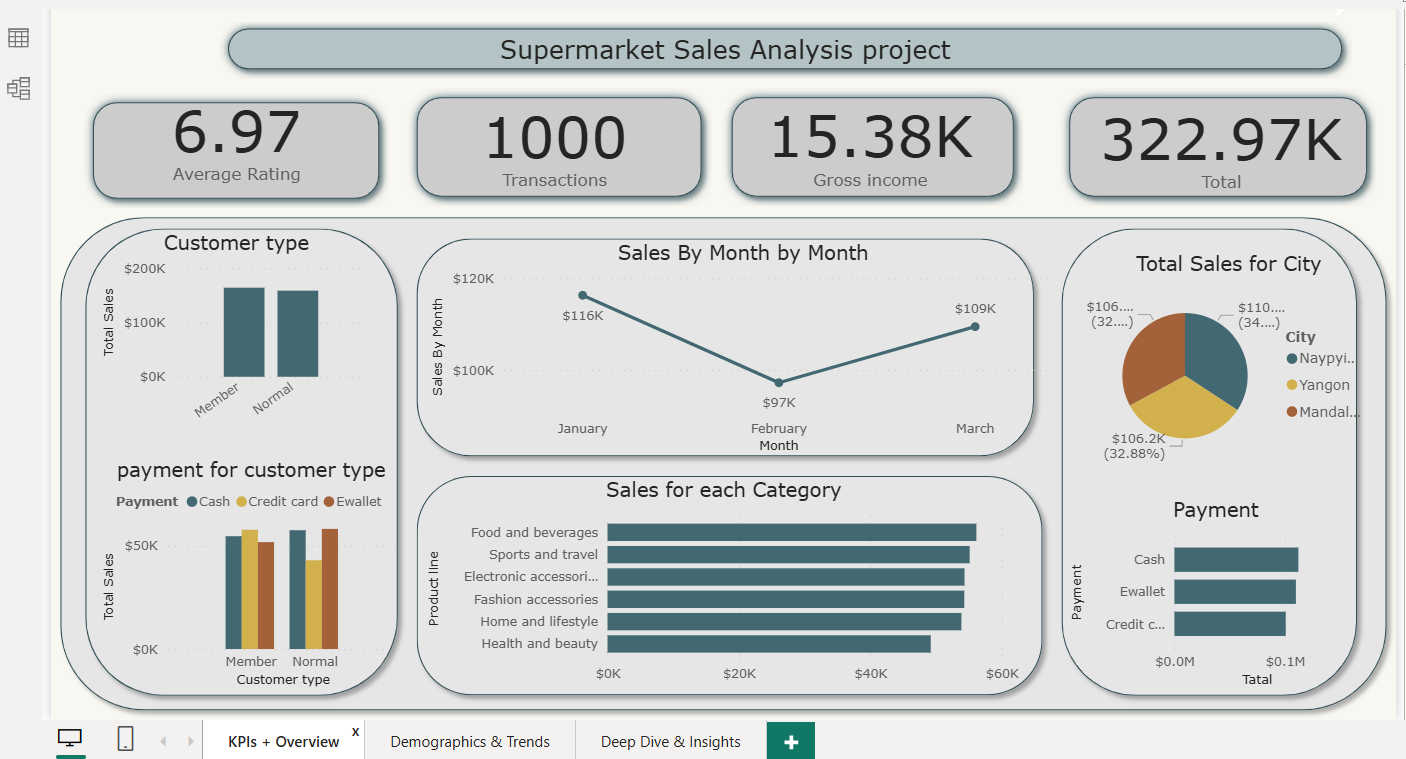

Layout of this report page (visuals, bound fields, positions):
{"tool":"powerbi","page":{"name":"KPIs + Overview","canvas":[1280,720],"ordinal":0},"visuals":[{"type":"shape","box":[0,232.2,1280.6,487.5],"z":500},{"type":"shape","box":[339.5,478,613.8,226.8],"z":1000},{"type":"shape","box":[339.5,252.6,605.6,225.4],"z":2000},{"type":"shape","box":[953,242.3,299.2,462.9],"z":3000},{"type":"shape","box":[24.4,242.3,315.4,462.9],"z":4000},{"type":"shape","box":[159.7,52.8,1078.9,56.9],"z":5000},{"type":"shape","box":[639.6,118.1,286.5,112.7],"z":6000},{"type":"shape","box":[339.5,118.1,289.2,112.7],"z":7000},{"type":"shape","box":[31.2,122.2,290.6,110],"z":8000},{"type":"shape","box":[960.1,118.1,301.5,112.7],"z":9000},{"type":"card","fields":{"Values":["supermarket_sales - Sheet1.Sum_Total"]},"box":[979.1,119.5,270.2,107.3],"z":10000},{"type":"card","fields":{"Values":["supermarket_sales - Sheet1.Gross_income"]},"box":[639.6,110,282.5,122.2],"z":11000},{"type":"card","fields":{"Values":["supermarket_sales - Sheet1.Transactions"]},"box":[339.5,122.2,281.1,96.4],"z":12000},{"type":"card","fields":{"Values":["supermarket_sales - Sheet1.Average_Rating"]},"box":[53,110,247.1,111.4],"z":13000},{"type":"pieChart","title":" Total Sales for  City","fields":{"Y":["Sum(supermarket_sales - Sheet1.Total)"],"Category":["supermarket_sales - Sheet1.City"]},"box":[979.1,274.3,283.8,214.6],"z":14000},{"type":"clusteredColumnChart","title":"payment for customer type","fields":{"Category":["supermarket_sales - Sheet1.Customer type"],"Y":["Sum(supermarket_sales - Sheet1.Total)"],"Series":["supermarket_sales - Sheet1.Payment"]},"box":[44.8,469.9,290.6,222.7],"z":15000},{"type":"clusteredBarChart","title":"Sales for each  Category","fields":{"Category":["supermarket_sales - Sheet1.Product line"],"Y":["Sum(supermarket_sales - Sheet1.Total)"]},"box":[354.4,488.9,571.7,203.7],"z":16000},{"type":"lineChart","fields":{"Category":["supermarket_sales - Sheet1.Date.Variation.Date Hierarchy.Month"],"Y":["Sum(supermarket_sales - Sheet1.Total)"]},"box":[358.5,263.4,601.6,207.8],"z":17000},{"type":"columnChart","title":" Customer type","fields":{"Category":["supermarket_sales - Sheet1.Customer type"],"Y":["Sum(supermarket_sales - Sheet1.Total)"]},"box":[44.7,253.1,262.6,201.7],"z":18000},{"type":"barChart","title":" Payment","fields":{"Category":["supermarket_sales - Sheet1.Payment"],"Y":["Sum(supermarket_sales - Sheet1.Total)"]},"box":[966.9,507.9,285.2,184.7],"z":19000},{"type":"textbox","box":[422.3,62.3,731,63.6],"z":20000},{"type":"actionButton","box":[1203.8,16.2,46.2,40],"z":21000}]}

Visuals, with their boxes on the page's 1280x720 design canvas (x1, y1, x2, y2). These are canvas units, not pixel positions in the 1406x759 screenshot, which may show the page scaled, cropped or inside an application window:
shape: detection(0, 232, 1281, 720)
shape: detection(340, 478, 953, 705)
shape: detection(340, 253, 945, 478)
shape: detection(953, 242, 1252, 705)
shape: detection(24, 242, 340, 705)
shape: detection(160, 53, 1239, 110)
shape: detection(640, 118, 926, 231)
shape: detection(340, 118, 629, 231)
shape: detection(31, 122, 322, 232)
shape: detection(960, 118, 1262, 231)
card - supermarket_sales - Sheet1.Sum_Total: detection(979, 120, 1249, 227)
card - supermarket_sales - Sheet1.Gross_income: detection(640, 110, 922, 232)
card - supermarket_sales - Sheet1.Transactions: detection(340, 122, 621, 219)
card - supermarket_sales - Sheet1.Average_Rating: detection(53, 110, 300, 221)
" Total Sales for  City" pieChart: detection(979, 274, 1263, 489)
"payment for customer type" clusteredColumnChart: detection(45, 470, 335, 693)
"Sales for each  Category" clusteredBarChart: detection(354, 489, 926, 693)
lineChart - supermarket_sales - Sheet1.Date.Variation.Date Hierarchy.Month x Sum(supermarket_sales - Sheet1.Total): detection(358, 263, 960, 471)
" Customer type" columnChart: detection(45, 253, 307, 455)
" Payment" barChart: detection(967, 508, 1252, 693)
textbox: detection(422, 62, 1153, 126)
actionButton: detection(1204, 16, 1250, 56)
